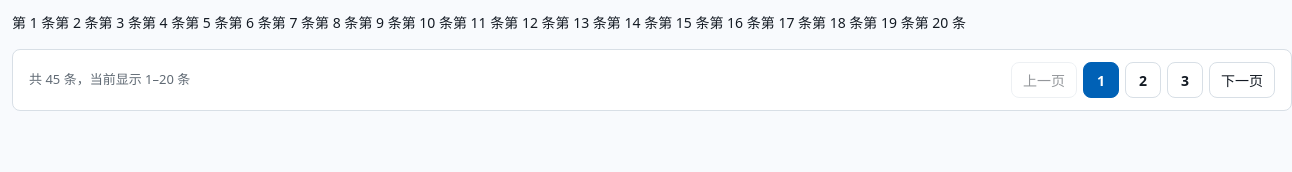
统一列表分页 › 每页展示 20 条并可切换到下一页
Expected: the text "第 1 条" is shown, [12,13,55,32]
Expected: the text "第 20 条" is shown, [915,13,966,32]
Click the button "下一页".
click(1242, 80)  # box [1209,62,1275,98]
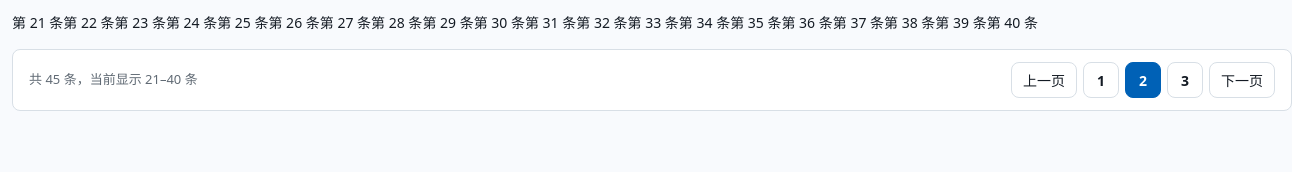
Expected: the text "第 21 条" is shown, [12,13,63,32]
Expected: the text "第 40 条" is shown, [987,13,1038,32]
Expected: the text "共 45 条，当前显示 21–40 条" is shown, [29,70,198,90]
